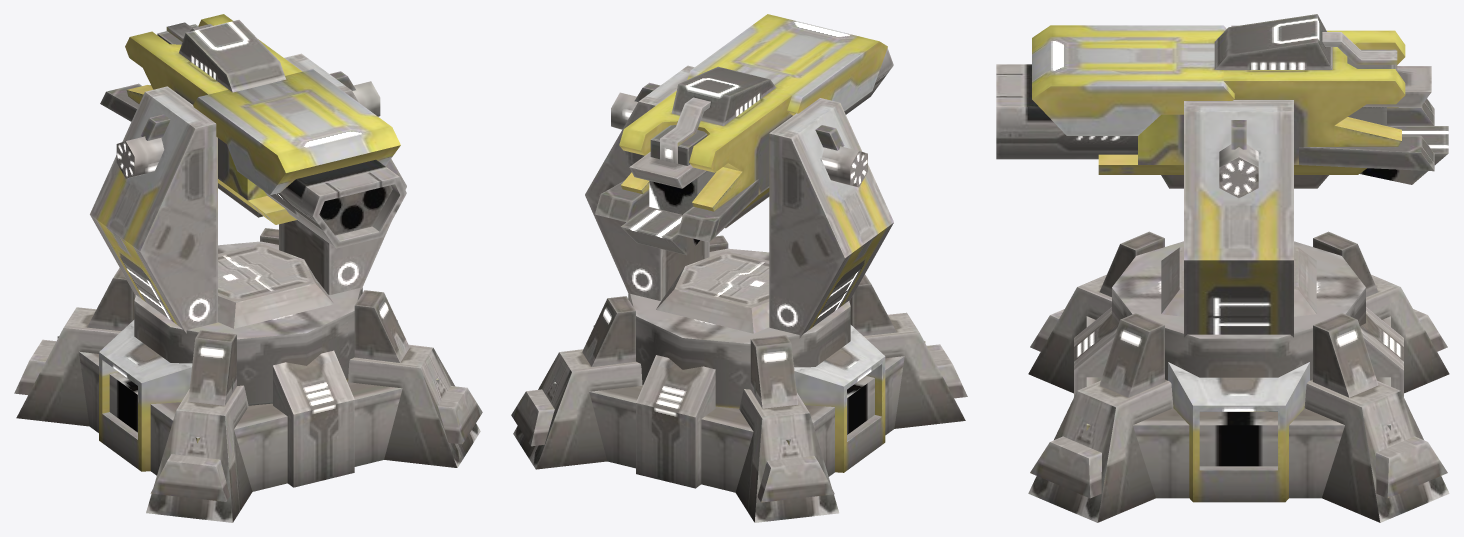
3 renders of one model, left to right at view 1: azimuth 30°, elevation 25°; view 2: azimuth 150°, elevation 25°; view 3: azimuth 270°, elevation 25°, orthographic. The views are drawn at different scales.
Visible parts, largest first — view 1: turret-missile-lod1; view 2: turret-missile-lod1; view 3: turret-missile-lod1.
Part boxes in pixels (left/top/right/bottom): turret-missile-lod1: left=14, top=14, right=482, bottom=522; turret-missile-lod1: left=511, top=14, right=967, bottom=522; turret-missile-lod1: left=996, top=14, right=1449, bottom=522.
Size of the model in its own units: 6.79 by 7.21 by 7.3.
2 materials, 1 textured.
